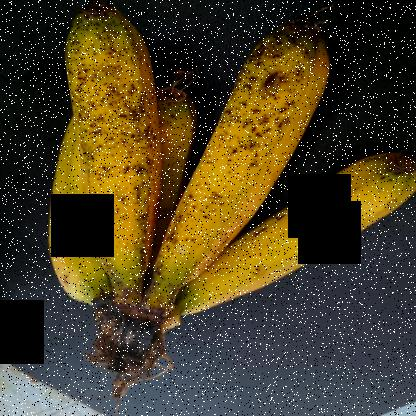ripe: (154, 13, 352, 283), (52, 0, 187, 288)
